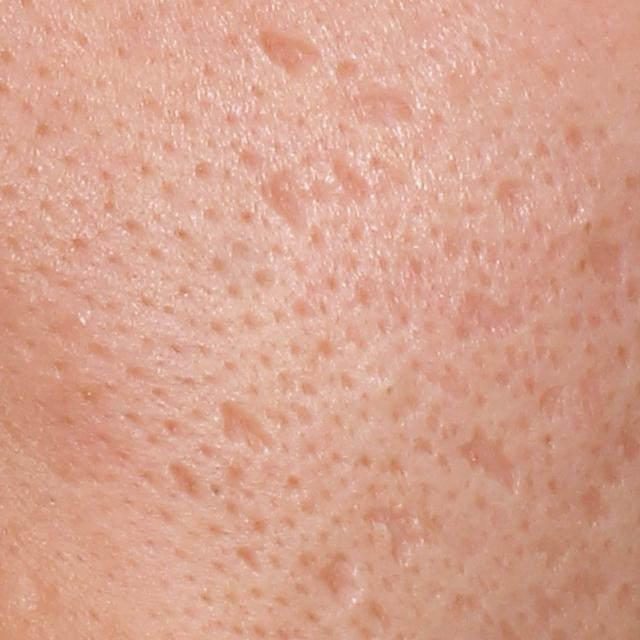atrophic_scar: (242, 26, 332, 85), (457, 418, 525, 495), (364, 498, 425, 573), (218, 401, 286, 462), (460, 290, 529, 338), (257, 163, 302, 234), (585, 232, 633, 292), (312, 552, 360, 606), (329, 158, 376, 208), (561, 566, 612, 612), (351, 92, 416, 124), (167, 458, 206, 505), (528, 583, 569, 626), (493, 180, 536, 215), (235, 541, 271, 581), (536, 534, 572, 572), (535, 384, 567, 425), (580, 488, 614, 524), (562, 121, 596, 155), (333, 53, 365, 87)
